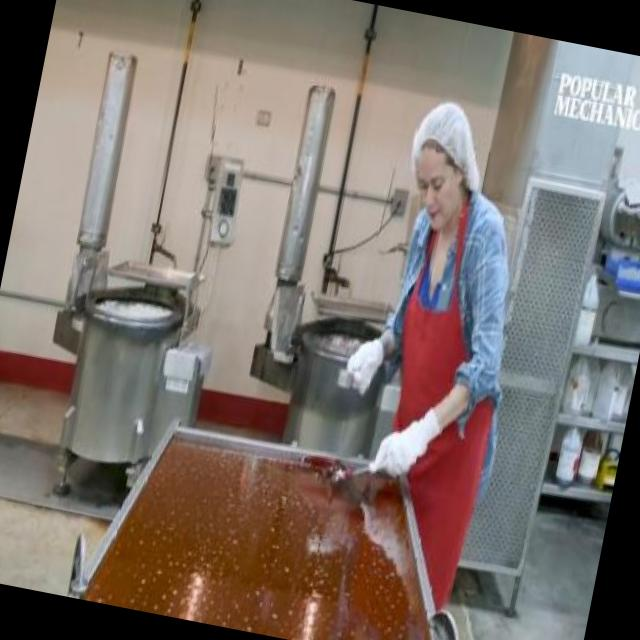hairnet: (412, 96, 484, 166)
